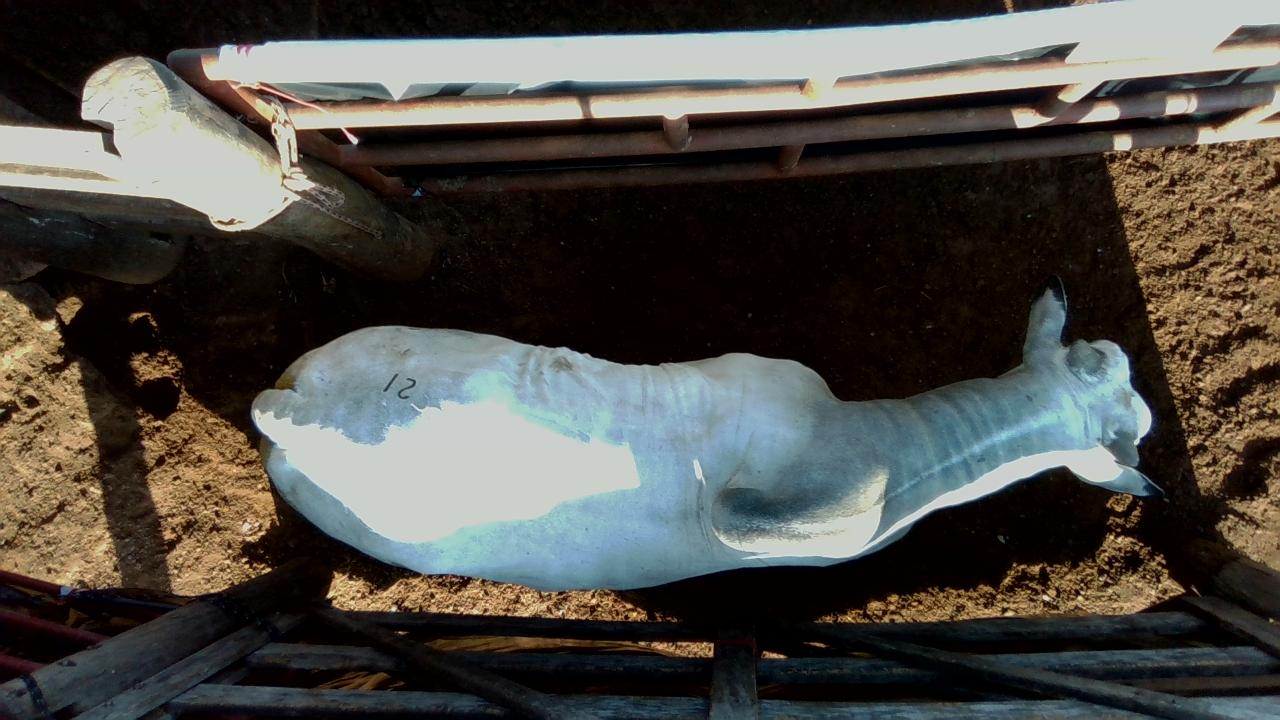cattle: (250, 273, 1164, 592)
